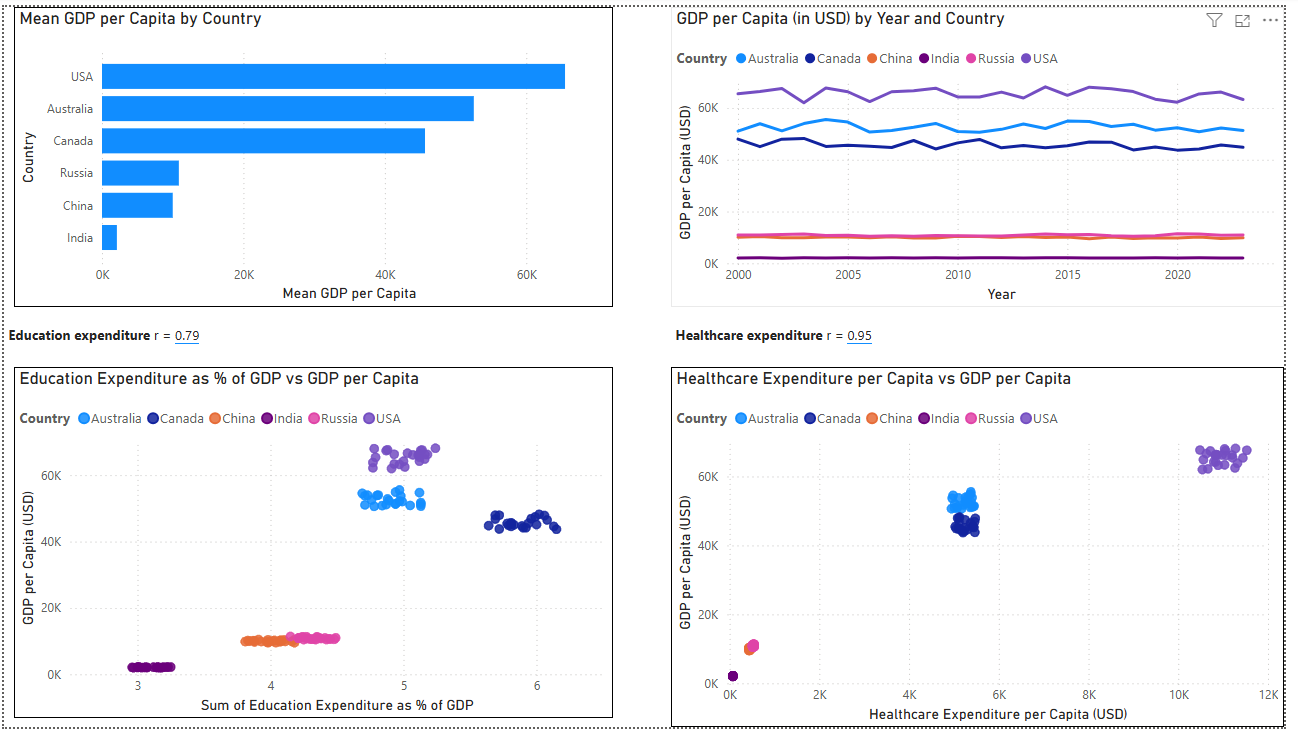

What the dashboard file says about the page in this screenshot:
{"tool":"powerbi","page":{"name":"Dashboard #1","canvas":[1280,720],"ordinal":6},"visuals":[{"type":"scatterChart","title":"Education Expenditure as % of GDP vs GDP per Capita","fields":{"Category":["Global_Economic_Data_Cleaned.Year"],"Series":["Global_Economic_Data_Cleaned.Country"],"X":["Sum(Global_Economic_Data_Cleaned.Education Expenditure as % of GDP)"],"Y":["Sum(Global_Economic_Data_Cleaned.GDP per Capita (in USD))"]},"box":[0,395,610,325],"z":0},{"type":"textbox","box":[10.6,362.5,282.7,32.9],"z":1000},{"type":"clusteredBarChart","fields":{"Category":["Global_Economic_Data_Cleaned.Country"],"Y":["Global_Economic_Data_Cleaned.Mean GDP per Capita"]},"box":[0,70,610,269],"z":2000},{"type":"lineChart","title":"GDP per Capita (in USD) by Year and Country","fields":{"Category":["Global_Economic_Data_Cleaned.Year"],"Series":["Global_Economic_Data_Cleaned.Country"],"Y":["Sum(Global_Economic_Data_Cleaned.GDP per Capita (in USD))"]},"box":[666.4,70.4,613.6,268.7],"z":3000},{"type":"scatterChart","title":"Healthcare Expenditure per Capita vs GDP per Capita","fields":{"Category":["Global_Economic_Data_Cleaned.Year"],"Series":["Global_Economic_Data_Cleaned.Country"],"X":["Sum(Global_Economic_Data_Cleaned.Healthcare Expenditure per Capita (USD))"],"Y":["Sum(Global_Economic_Data_Cleaned.GDP per Capita (in USD))"]},"box":[666.4,395.4,613.6,325],"z":4000},{"type":"textbox","box":[666.4,360.2,221.1,33.3],"z":5000},{"type":"textbox","box":[0,0,1280,48.1],"z":6000}]}

Visuals, with their boxes in screenshot pixels (x1, y1, x2, y2), scaled from the page's 1280x720 canvas onto the 1298x736 screenshot:
"Education Expenditure as % of GDP vs GDP per Capita" scatterChart: [left=0, top=404, right=619, bottom=735]
textbox: [left=11, top=371, right=297, bottom=404]
clusteredBarChart - Global_Economic_Data_Cleaned.Country x Global_Economic_Data_Cleaned.Mean GDP per Capita: [left=0, top=72, right=619, bottom=347]
"GDP per Capita (in USD) by Year and Country" lineChart: [left=676, top=72, right=1297, bottom=347]
"Healthcare Expenditure per Capita vs GDP per Capita" scatterChart: [left=676, top=404, right=1297, bottom=735]
textbox: [left=676, top=368, right=900, bottom=402]
textbox: [left=0, top=0, right=1297, bottom=49]
